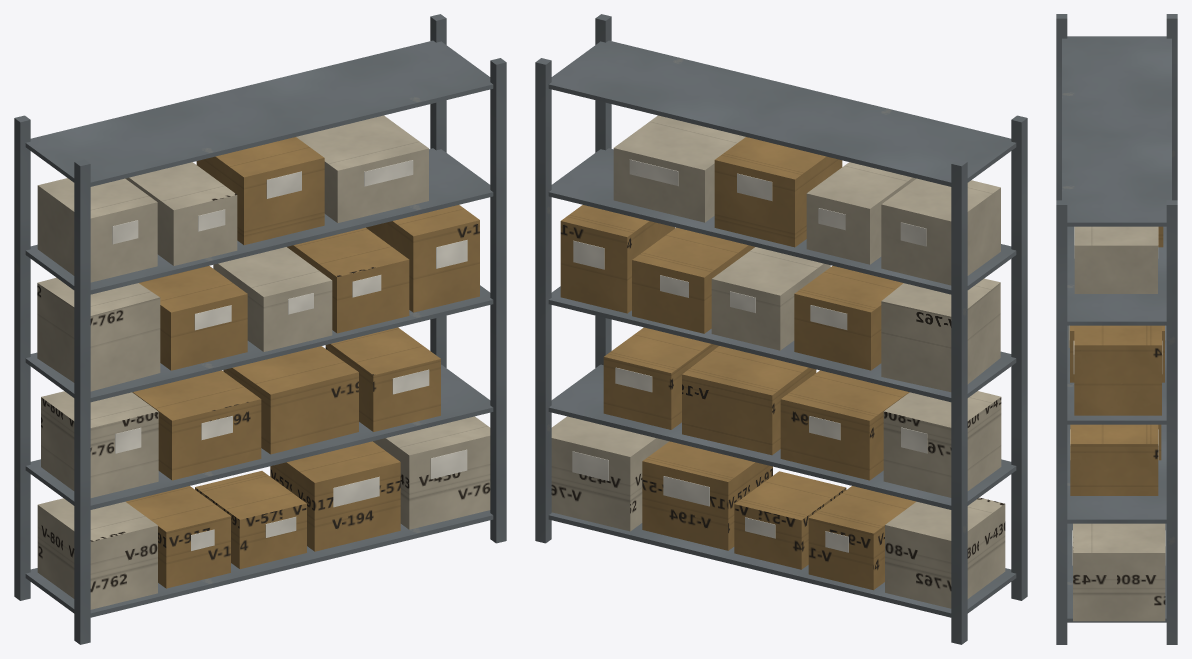
File: shelf_unit.glb
3 renders of one model, left to right at view 1: azimuth 30°, elevation 25°; view 2: azimuth 150°, elevation 25°; view 3: azimuth 270°, elevation 25°, orthographic. The views are drawn at different scales.
Parts seen in each view (by area): view 1: shelf_unit; view 2: shelf_unit; view 3: shelf_unit.
Boxes of the visible parts, <box> form: shelf_unit: <box>14,14,506,644</box>; shelf_unit: <box>535,14,1027,644</box>; shelf_unit: <box>1056,14,1177,644</box>.
Size of the model in its own units: 2.05 by 2.2 by 0.55.
Materials: 4 (4 with a texture image).
